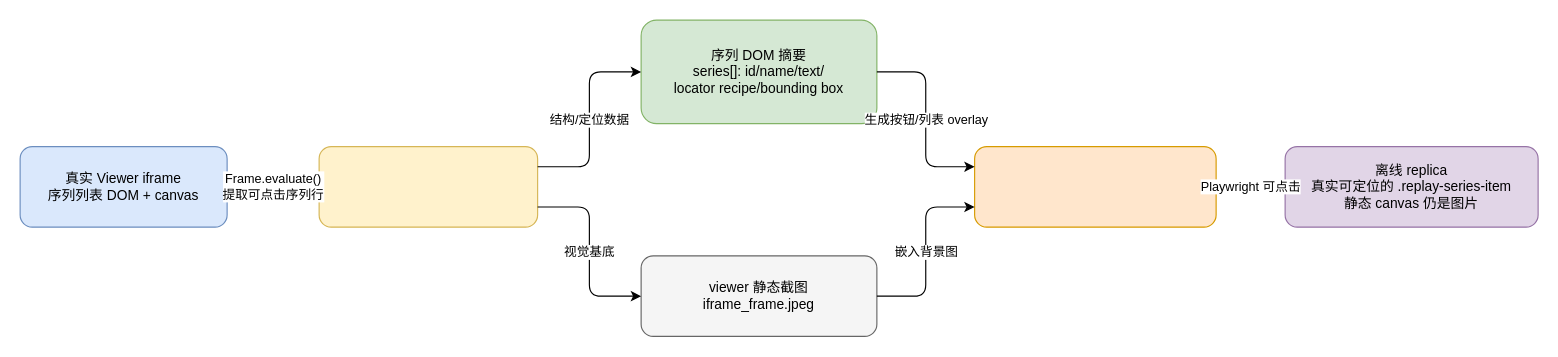
Some shapes in this 1558 by 357 pixel diagram are drawn without their labels. Each missing label, with the box of its shape:
build_replica 图片作背景 + 序列 overlay DOM: (973, 145, 1216, 227)
capture_snapshot Frame.evaluate + screenshot: (318, 145, 538, 227)
